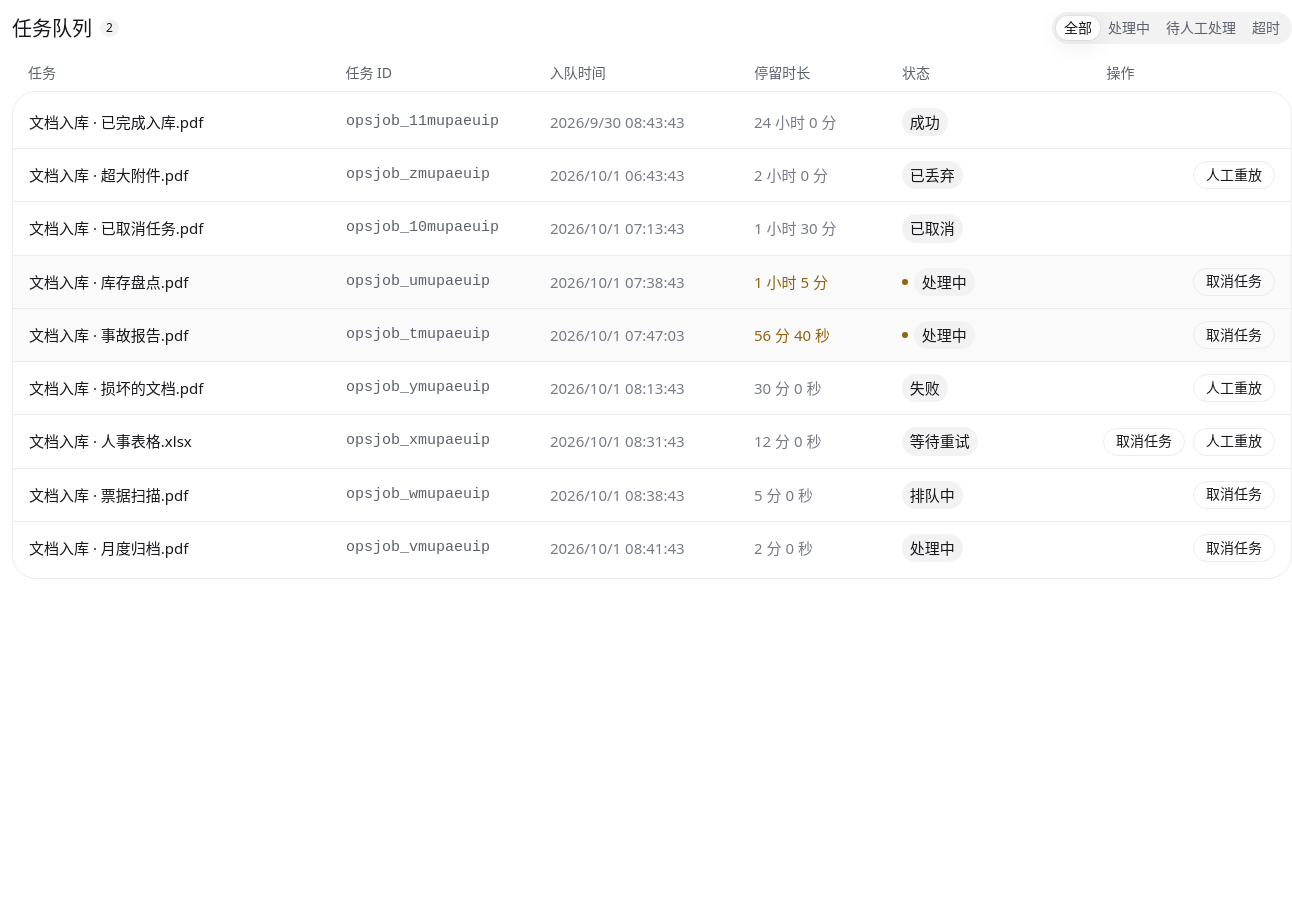
it: 任务队列：行操作（§10.2 / §6.7，A42） › replay 竞态 403：提示已刷新并重新拉取列表
Click the button "人工重放" in the row of "损坏的文档.pdf": [1234, 388] box [1193, 374, 1275, 402]
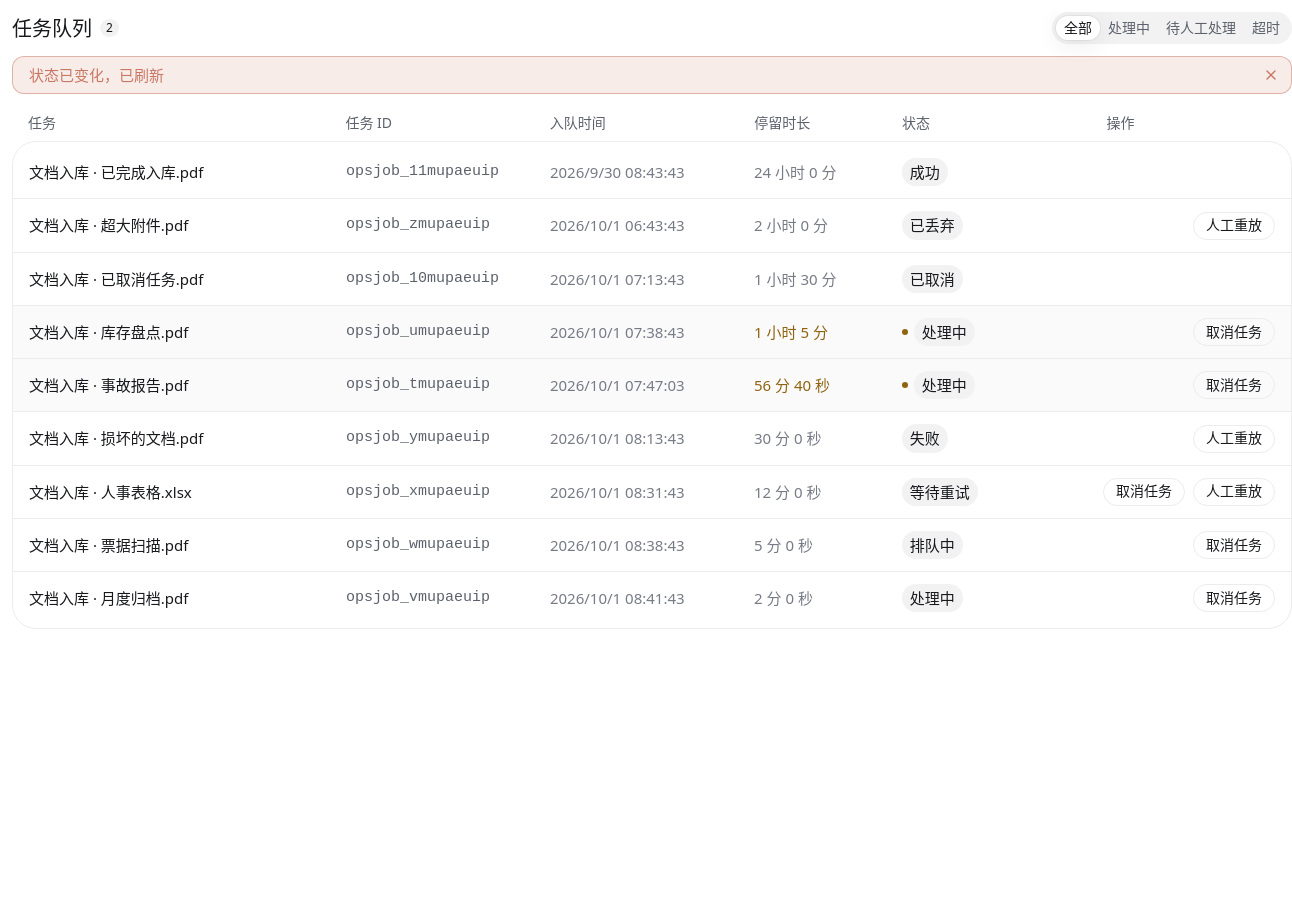
expect the text "状态已变化，已刷新" is shown: met, box [12, 56, 1291, 94]
